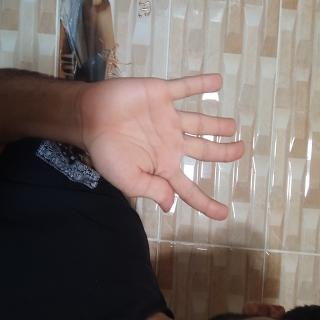SHEEN: (48, 98, 167, 320)
